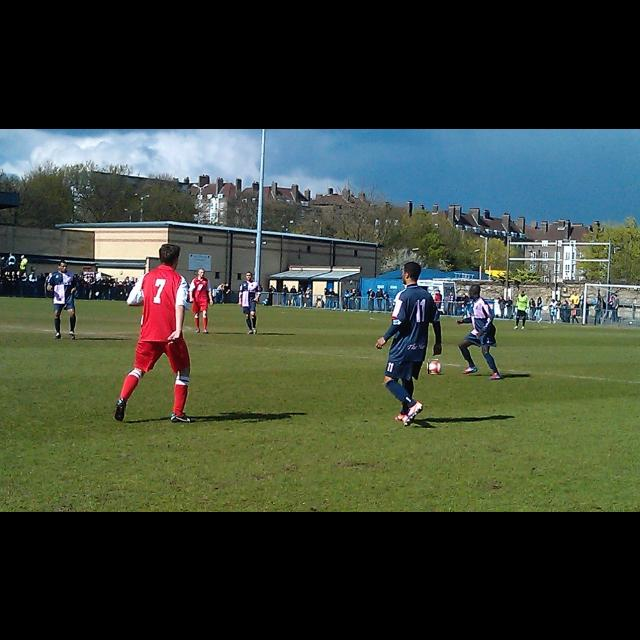Football: (428, 360, 440, 374)
